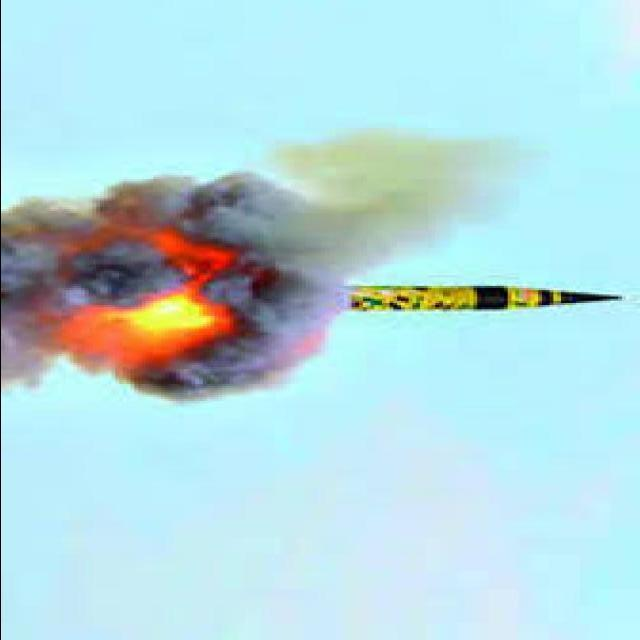missile: (337, 279, 640, 319)
